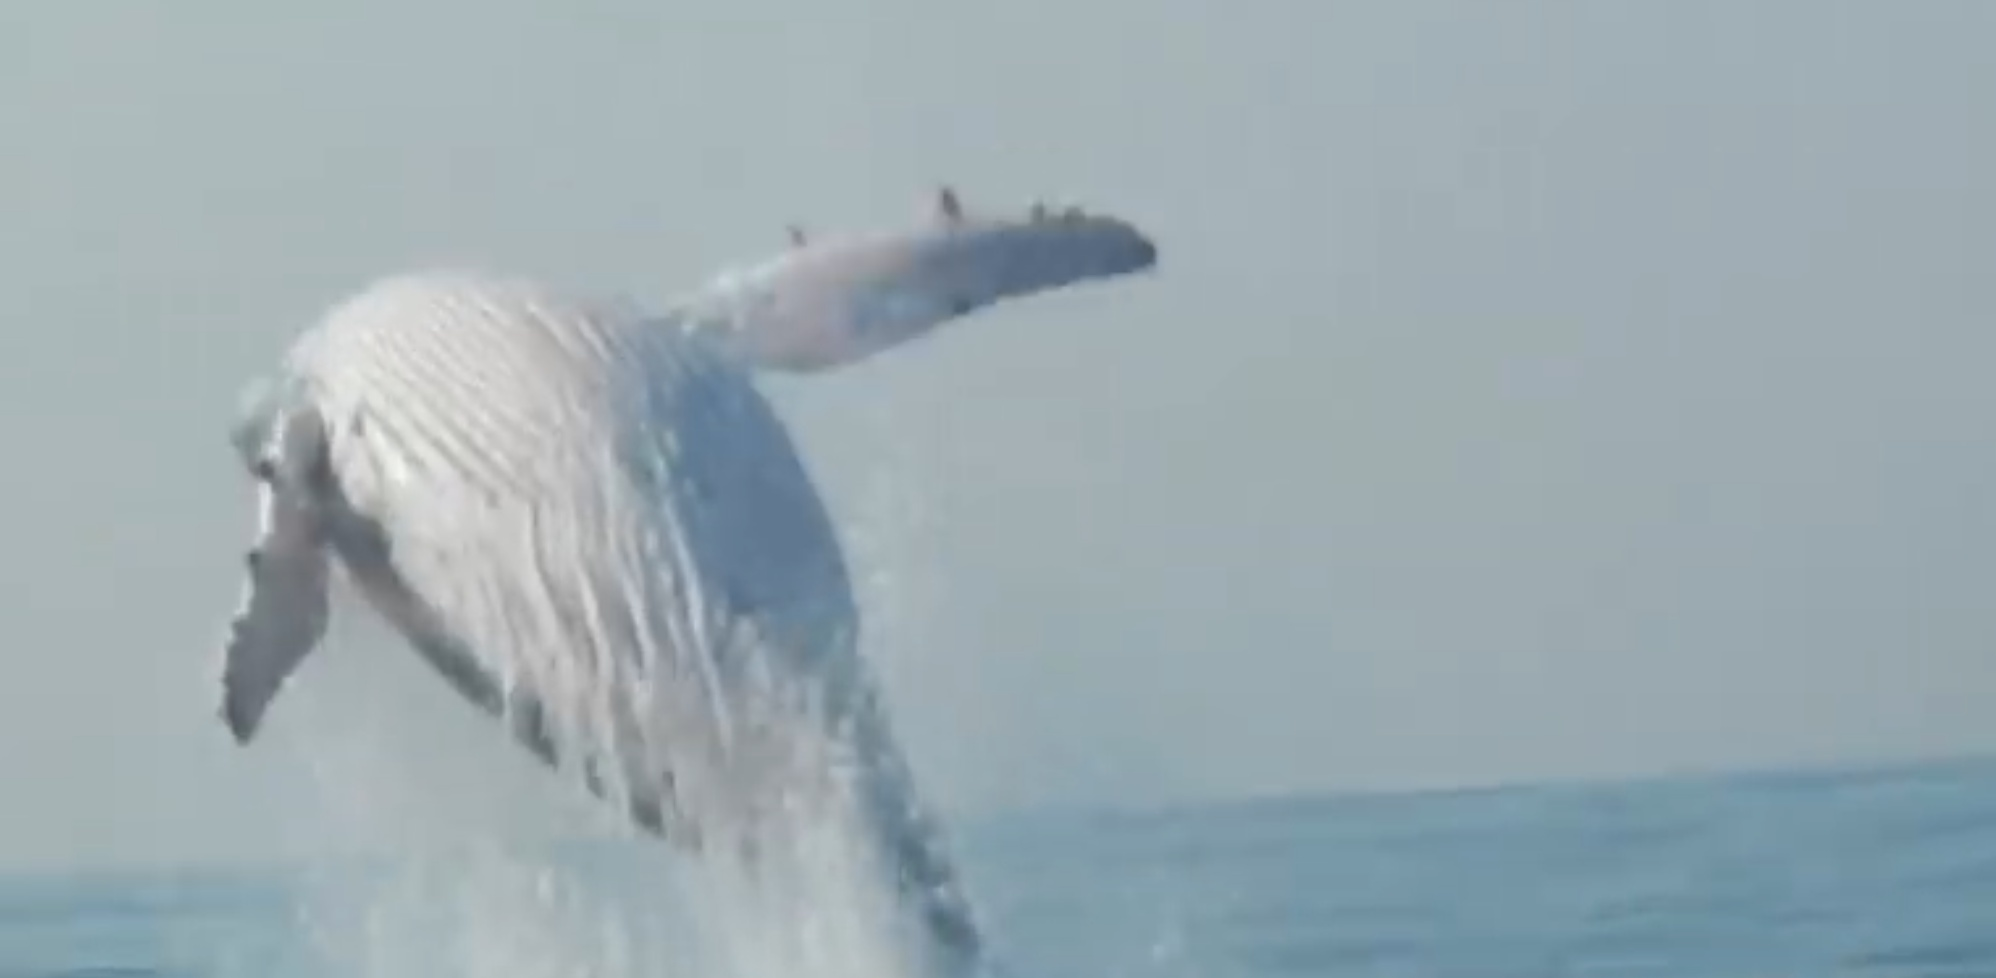humpback: (216, 271, 987, 968)
